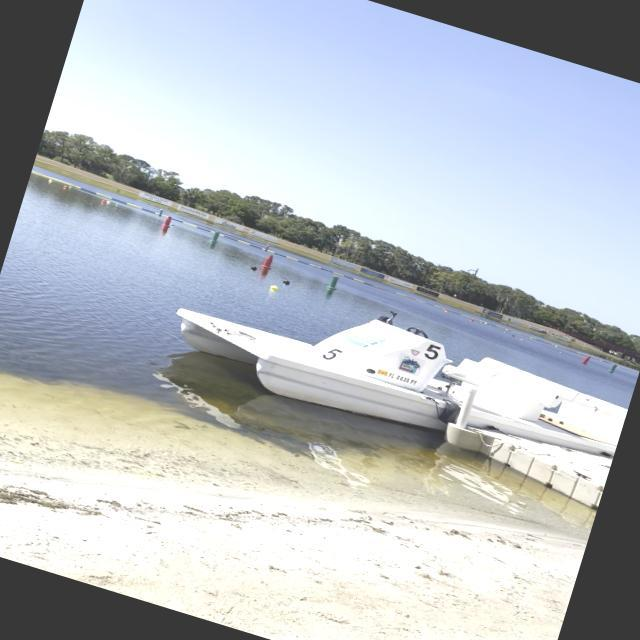buoy: (160, 212, 176, 230), (279, 277, 293, 288), (267, 282, 280, 292), (248, 264, 260, 274), (114, 202, 122, 208), (61, 184, 68, 190), (68, 184, 74, 190), (100, 199, 106, 204)
